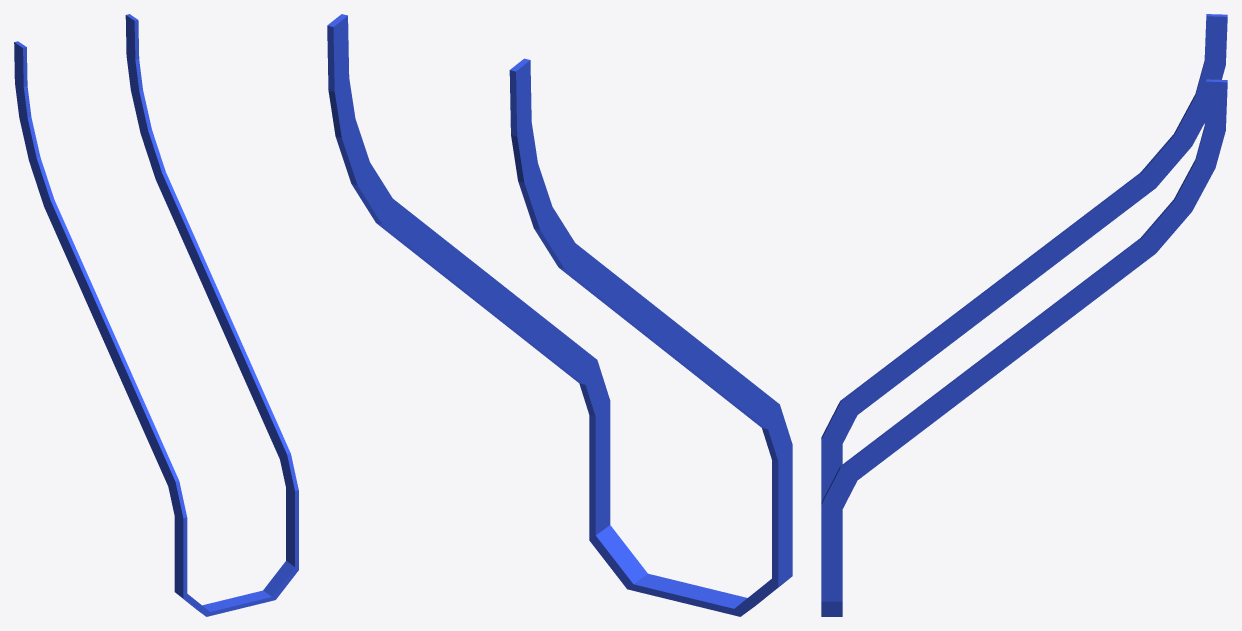
Rendered from guards.obj.
3 renders of one model, left to right at view 1: azimuth 30°, elevation 25°; view 2: azimuth 150°, elevation 25°; view 3: azimuth 270°, elevation 25°, orthographic. The views are drawn at different scales.
Visible parts, largest first — view 1: mesh33, mesh14, mesh21, mesh24, mesh5, mesh16, mesh15; view 2: mesh14, mesh33, mesh22, mesh16, mesh15, mesh11, mesh36; view 3: mesh13, mesh34, mesh24, mesh5.
Boxes of the visible parts, box(x1,y1,x2,y2) form: mesh33: box(14, 42, 183, 597); mesh14: box(125, 15, 294, 566); mesh21: box(183, 490, 298, 616); mesh24: box(50, 199, 178, 481); mesh5: box(162, 172, 290, 454); mesh16: box(202, 590, 271, 611); mesh15: box(263, 561, 294, 596); mesh14: box(333, 16, 610, 535); mesh33: box(516, 60, 792, 586); mesh22: box(589, 415, 778, 616); mesh16: box(634, 573, 747, 608); mesh15: box(596, 525, 647, 583); mesh11: box(376, 223, 584, 384); mesh36: box(559, 267, 767, 429); mesh13: box(821, 81, 1227, 601); mesh34: box(821, 16, 1227, 502); mesh24: box(840, 172, 1140, 402); mesh5: box(840, 238, 1140, 467).
Size of the model in its own units: 1.5 by 5.67 by 3.81.
